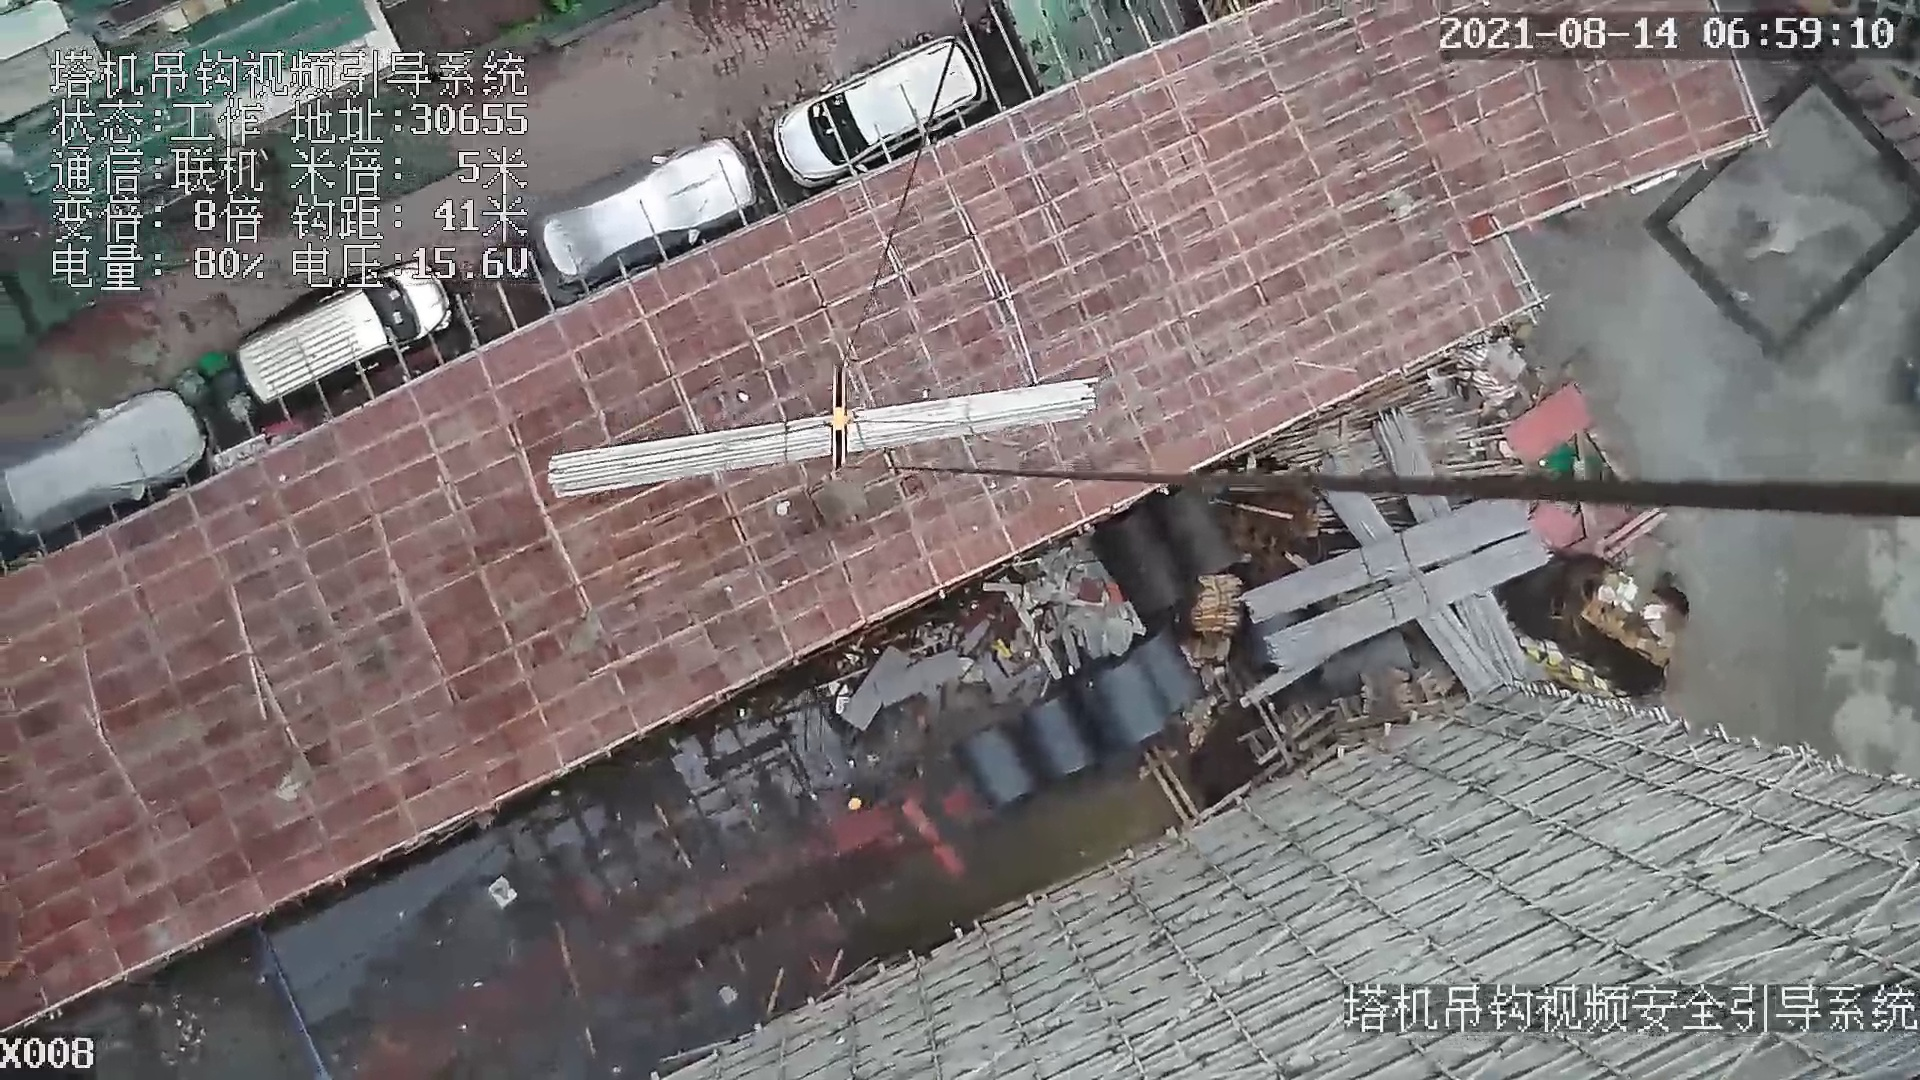hook: (819, 363, 856, 471)
rebar: (542, 378, 1097, 500), (1321, 462, 1502, 698), (1373, 409, 1524, 684), (1262, 531, 1549, 673), (1242, 498, 1530, 622)
wood: (1192, 574, 1242, 640)
